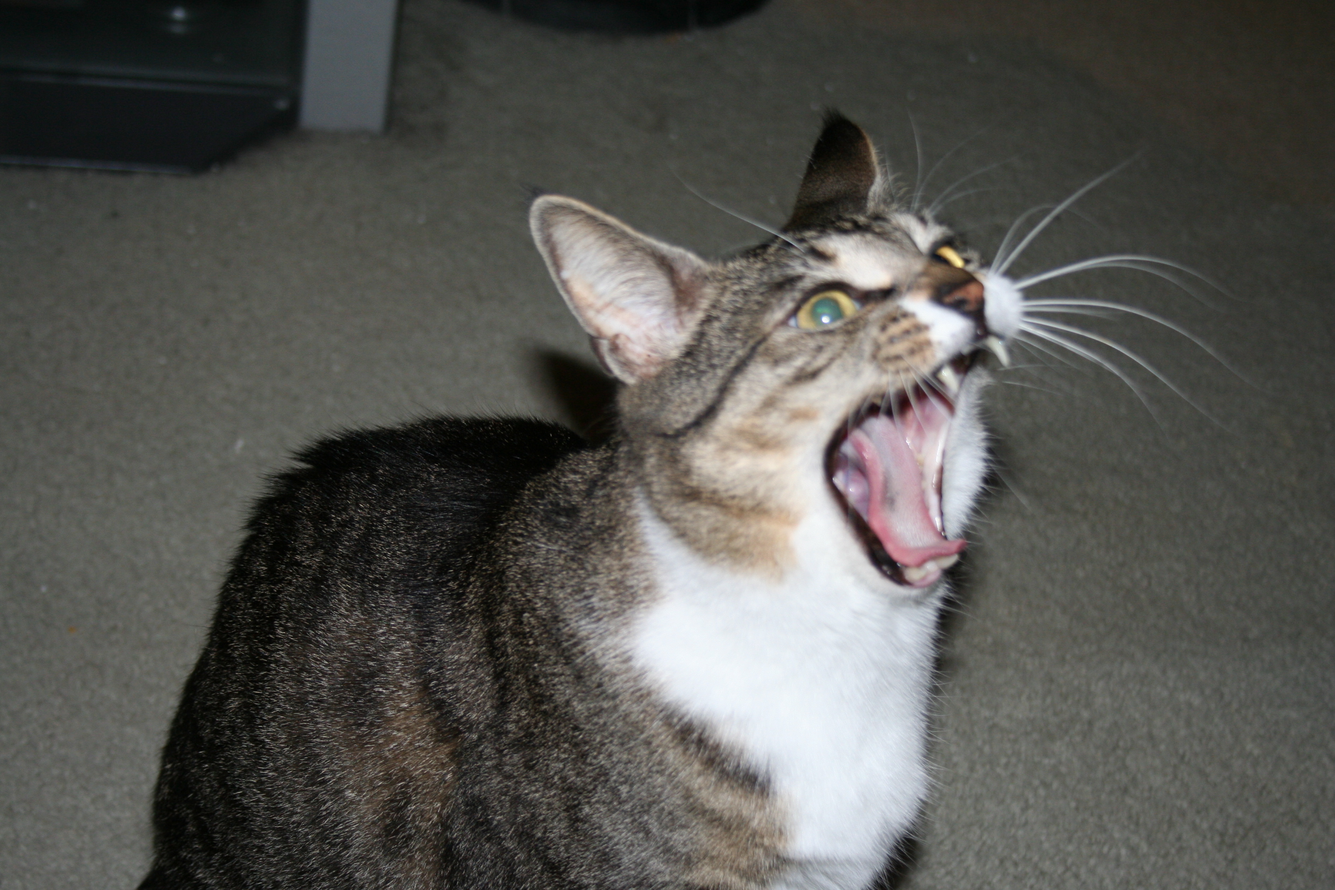cat: (125, 104, 1244, 889)
